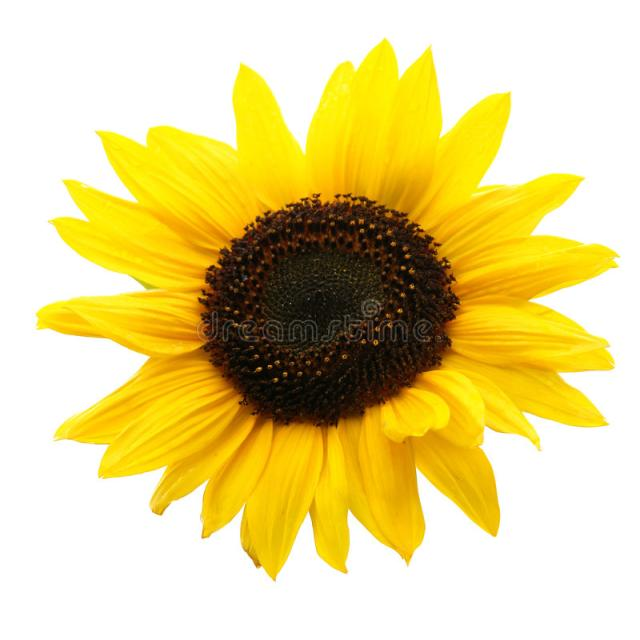sunflower: (24, 29, 634, 586)
